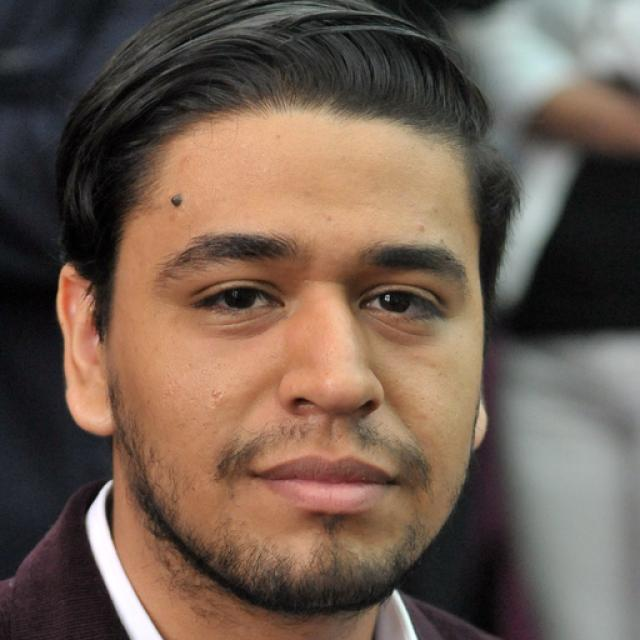Acne: (203, 383, 229, 410), (415, 221, 431, 235)
